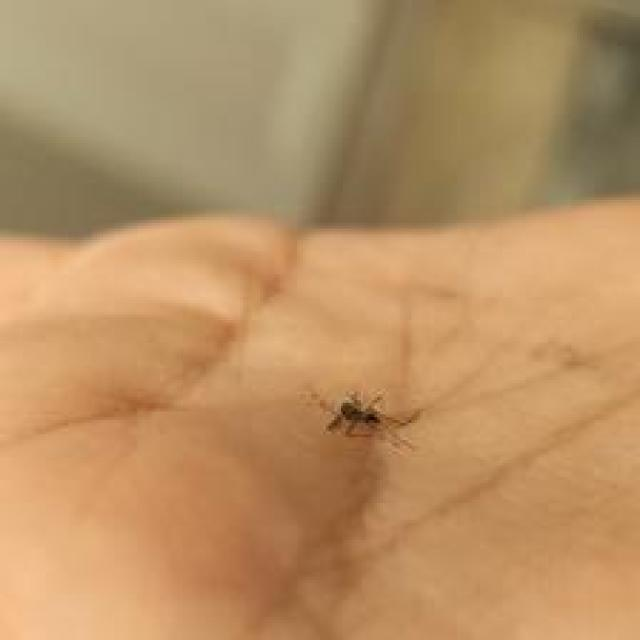Aedes albopictus: (308, 384, 423, 456)
